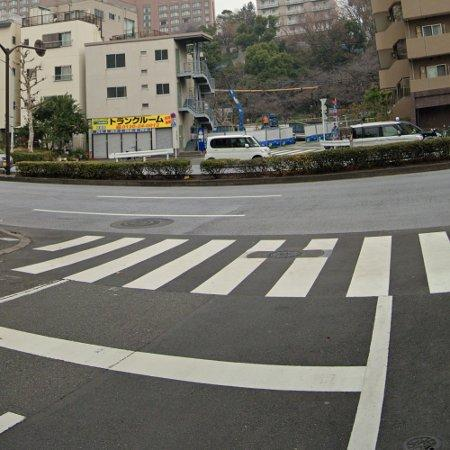crosswalks: (2, 231, 450, 298)
